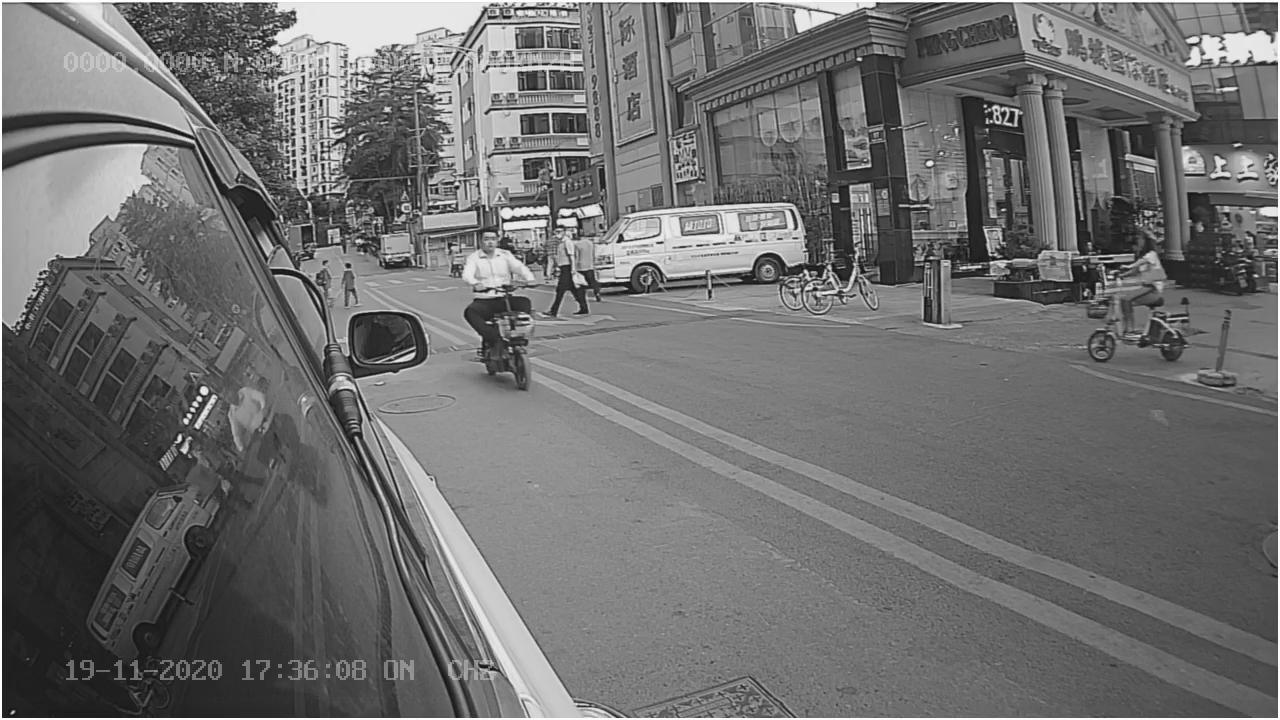person: (458, 220, 534, 282)
